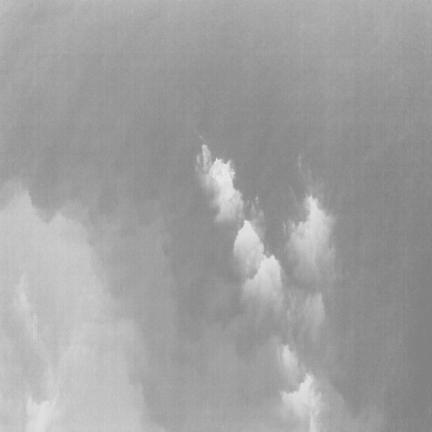flukeprints: (196, 144, 244, 224), (242, 256, 283, 325), (283, 374, 320, 429), (234, 220, 263, 271), (281, 345, 301, 381)
